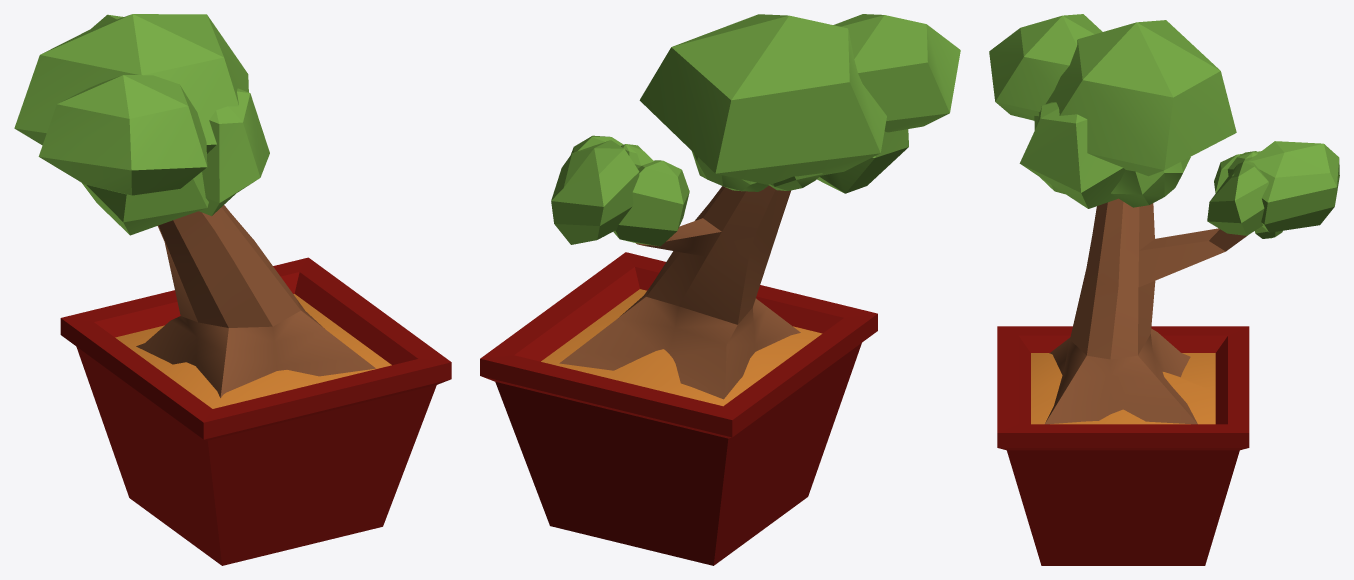
Rendered from Bonsai.fbx.
3 renders of one model, left to right at view 1: azimuth 30°, elevation 25°; view 2: azimuth 150°, elevation 25°; view 3: azimuth 270°, elevation 25°, orthographic. The views are drawn at different scales.
Visible parts, largest first — view 1: pCube2, pCube3, pSphere16, pSphere10, pSphere11, pSphere3; view 2: pCube2, pSphere10, pCube3, pSphere16, pSphere4, pSphere6, pSphere3, pSphere12; view 3: pCube2, pCube3, pSphere10, pSphere16, pSphere4, pSphere11, pSphere7, pSphere12.
Boxes of the visible parts, bbox=[...] form: pCube2: bbox=[60, 257, 451, 565]; pCube3: bbox=[136, 205, 375, 397]; pSphere16: bbox=[38, 75, 207, 195]; pSphere10: bbox=[14, 14, 248, 153]; pSphere11: bbox=[199, 88, 269, 215]; pSphere3: bbox=[82, 172, 208, 235]; pCube2: bbox=[480, 252, 877, 565]; pSphere10: bbox=[639, 14, 886, 184]; pCube3: bbox=[559, 185, 800, 399]; pSphere16: bbox=[833, 14, 960, 132]; pSphere4: bbox=[551, 140, 639, 244]; pSphere6: bbox=[613, 160, 689, 246]; pSphere3: bbox=[817, 129, 908, 193]; pSphere12: bbox=[692, 151, 768, 191]; pCube2: bbox=[997, 326, 1249, 565]; pCube3: bbox=[1045, 198, 1247, 424]; pSphere10: bbox=[1038, 20, 1236, 176]; pSphere16: bbox=[989, 14, 1102, 120]; pSphere4: bbox=[1232, 141, 1339, 232]; pSphere11: bbox=[1019, 102, 1125, 208]; pSphere7: bbox=[1207, 160, 1268, 235]; pSphere12: bbox=[1111, 157, 1190, 207].
Bounding box in the file's own units: 2.62 × 3.57 × 2.47.
